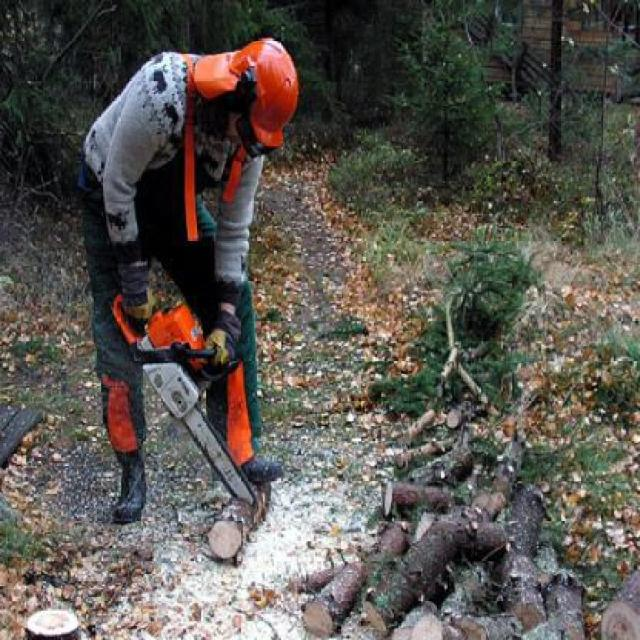Chainsaw: (110, 288, 268, 509)
